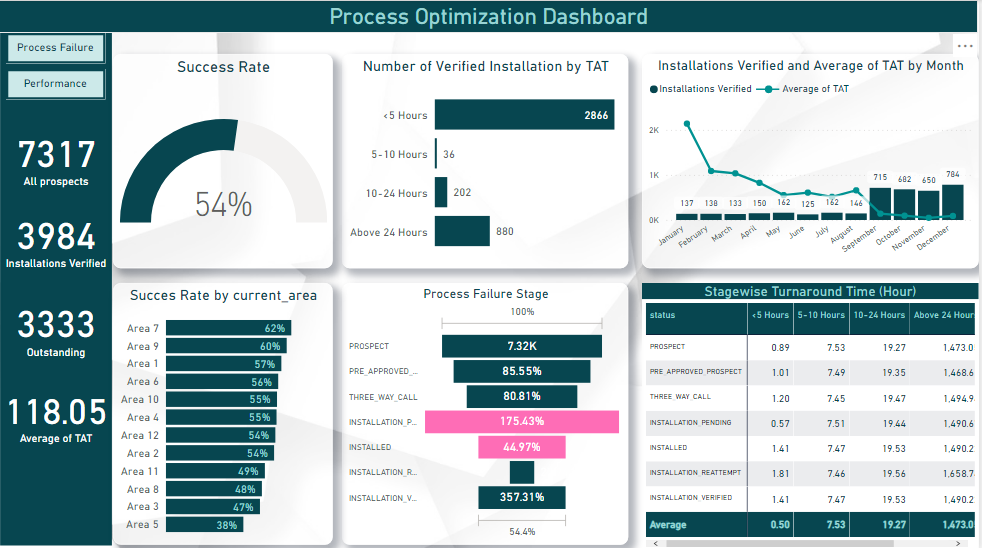

Layout of this report page (visuals, bound fields, positions):
{"tool":"powerbi","page":{"name":"Page 1","canvas":[1280,720],"ordinal":0},"visuals":[{"type":"pivotTable","title":"Stagewise Turnaround Time (Hour)","fields":{"Values":["Avg(Min Date Table.SLA)"],"Columns":["Min Date Table.SLA Category"],"Rows":["PA_PE_Exercises_SalesDataDump.status"]},"box":[839.8,369.6,439.7,350.4],"z":0},{"type":"barChart","title":"Number of Verified Installation by TAT","fields":{"Category":["Min Date Table.SLA Category"],"Y":["CountNonNull(Min Date Table.SLA)"]},"box":[448.7,71.2,374.1,280.3],"z":1000},{"type":"lineStackedColumnComboChart","fields":{"Y2":["Avg(Min Date Table.TAT)"],"Category":["Min Date Table.Min Date.Variation.Date Hierarchy.Month"],"Y":["PA_PE_Exercises_SalesDataDump.Installations Verified"]},"box":[839.8,71.2,439.7,280.3],"z":2000},{"type":"basicShape","box":[0,0,149.2,720],"z":3000},{"type":"card","fields":{"Values":["PA_PE_Exercises_SalesDataDump.All prospects"]},"box":[0,151.5,149.2,102.9],"z":4000},{"type":"card","fields":{"Values":["PA_PE_Exercises_SalesDataDump.Installations Verified"]},"box":[0,254.3,149.2,111.9],"z":5000},{"type":"card","fields":{"Values":["Area Sort.Outstanding"]},"box":[0,366.2,149.2,119.8],"z":6000},{"type":"card","fields":{"Values":["Avg(Min Date Table.TAT)"]},"box":[0,486,149.2,108.5],"z":7000},{"type":"textbox","box":[0,0,1279.5,43],"z":8000},{"type":"funnel","title":"Process Failure Stage","fields":{"Category":["PA_PE_Exercises_SalesDataDump.status"],"Y":["Count(PA_PE_Exercises_SalesDataDump.prospect_id)"]},"box":[448.7,369.6,374.1,342.5],"z":9000},{"type":"gauge","title":"Success Rate","fields":{"Y":["PA_PE_Exercises_SalesDataDump.Succes Rate"]},"box":[149.2,71.2,287.1,280.3],"z":10000},{"type":"barChart","fields":{"Category":["data.current_area"],"Y":["PA_PE_Exercises_SalesDataDump.Succes Rate"]},"box":[149.2,369.6,287.1,342.5],"z":11000},{"type":"actionButton","box":[9,43,130,39.6],"z":12000},{"type":"actionButton","box":[9,90.4,130,39.6],"z":13000}]}

Visuals, with their boxes in screenshot pixels (x1, y1, x2, y2), scaled from the page's 1280x720 canvas onto the 982x548 screenshot:
"Stagewise Turnaround Time (Hour)" pivotTable: 644,281,981,547
"Number of Verified Installation by TAT" barChart: 344,54,631,268
lineStackedColumnComboChart - Avg(Min Date Table.TAT) x Min Date Table.Min Date.Variation.Date Hierarchy.Month: 644,54,981,268
basicShape: 0,0,114,547
card - PA_PE_Exercises_SalesDataDump.All prospects: 0,115,114,194
card - PA_PE_Exercises_SalesDataDump.Installations Verified: 0,194,114,279
card - Area Sort.Outstanding: 0,279,114,370
card - Avg(Min Date Table.TAT): 0,370,114,452
textbox: 0,0,981,33
"Process Failure Stage" funnel: 344,281,631,542
"Success Rate" gauge: 114,54,335,268
barChart - data.current_area x PA_PE_Exercises_SalesDataDump.Succes Rate: 114,281,335,542
actionButton: 7,33,107,63
actionButton: 7,69,107,99
